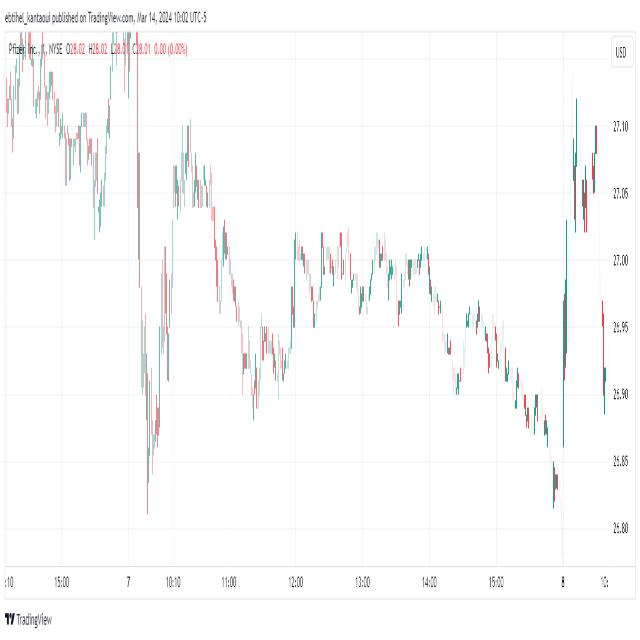Triple-Top: (317, 217, 354, 280)
rectangle: (289, 213, 451, 339)
